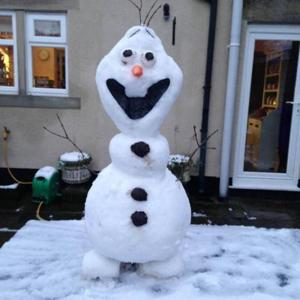olaf: (90, 7, 195, 289)
